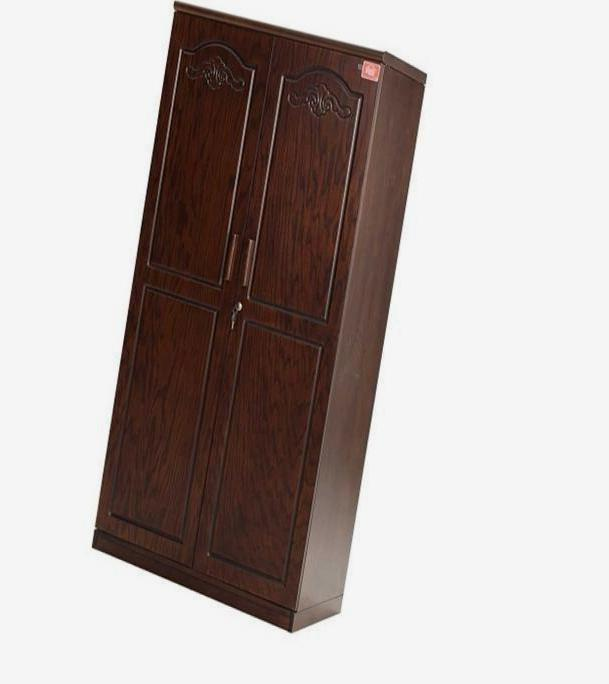Armario: (90, 0, 428, 637)
